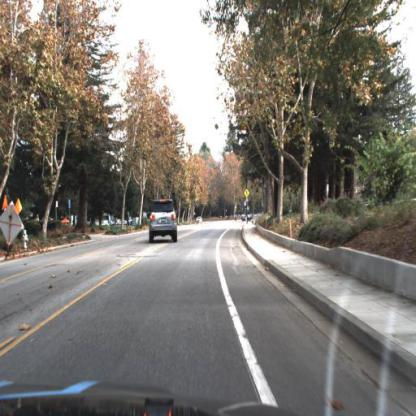car: (148, 198, 181, 249)
